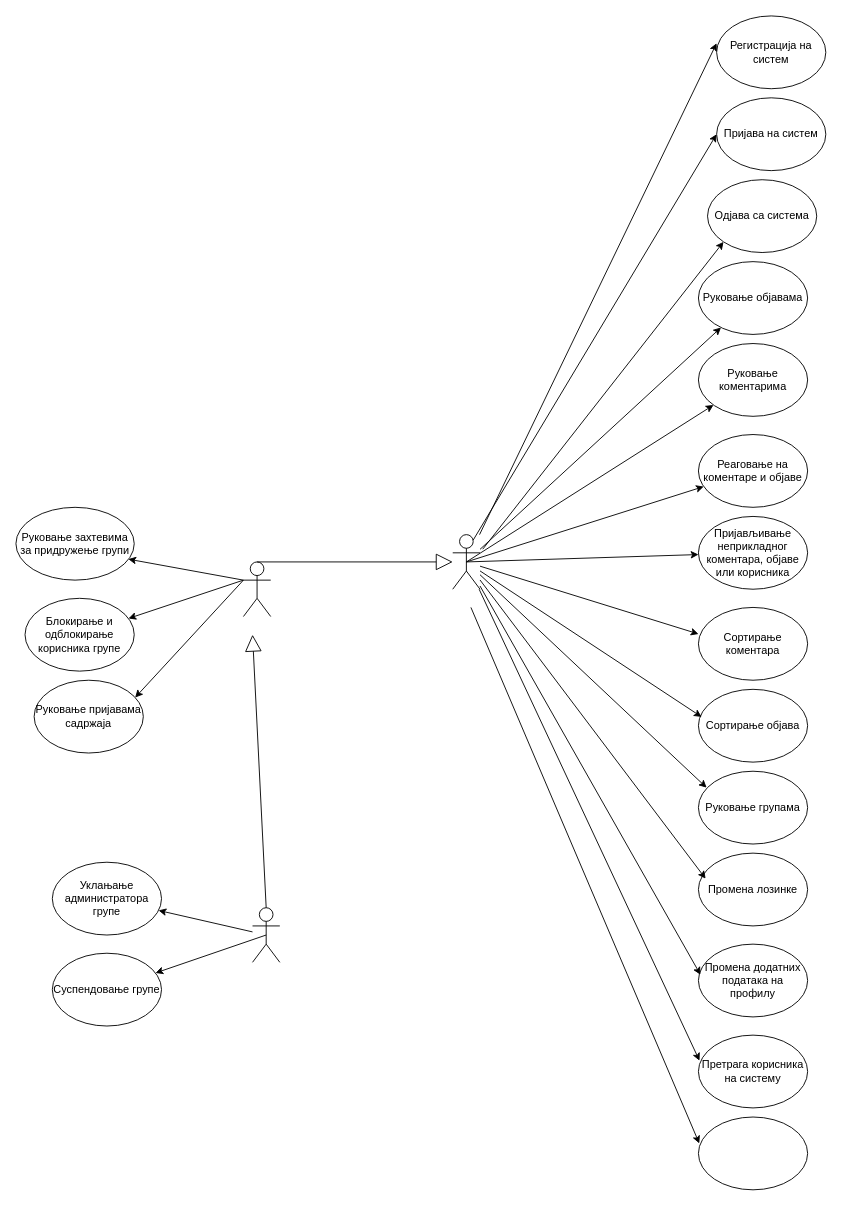
This 842x1206 diagram has some shape labels left out. Each missing label, with the centre of its shape:
"Администратор групе" belongs at [257,589].
"Администратор система" belongs at [266,934].
"Корисник" belongs at [466,561].
"Руковање захтевима за пријатељство" belongs at [753,1153].
